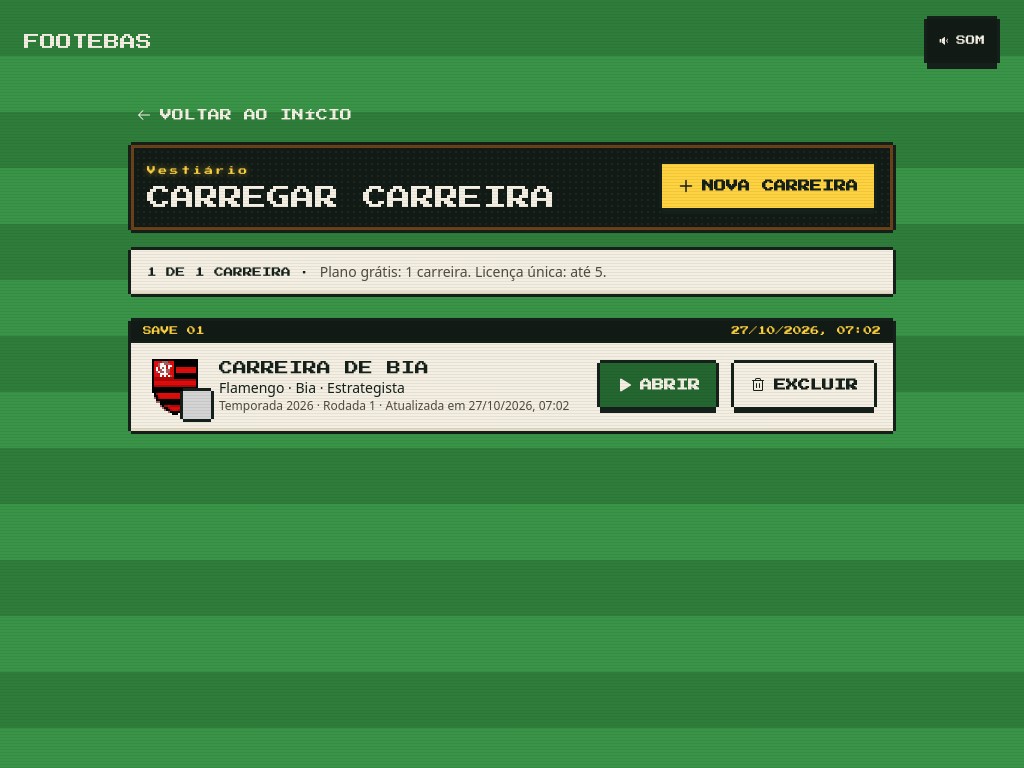
Test case: Carregar Carreira › só exclui depois da confirmação
Click the button with aria-label "excluir carreira de bia".
click(804, 385)  # box [734,363,874,407]
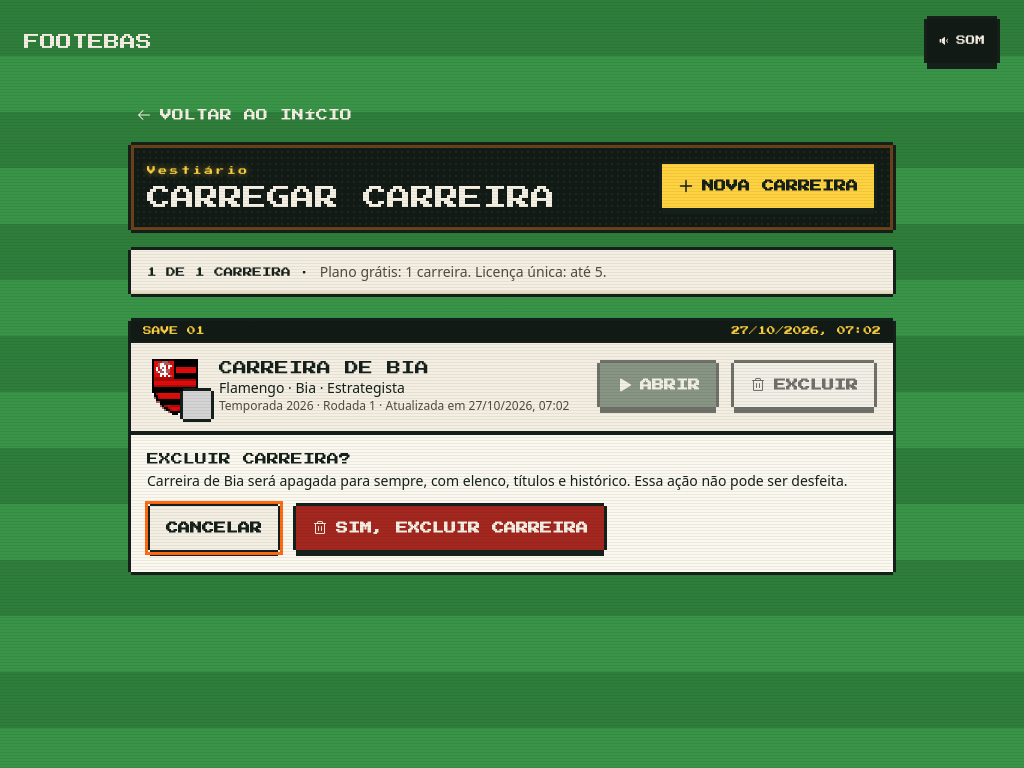
Expected: the dialog "Excluir carreira?" shows "não pode ser desfeita", [244,471,848,490]
Click the button "Cancelar".
click(214, 528)  # box [150,506,278,550]
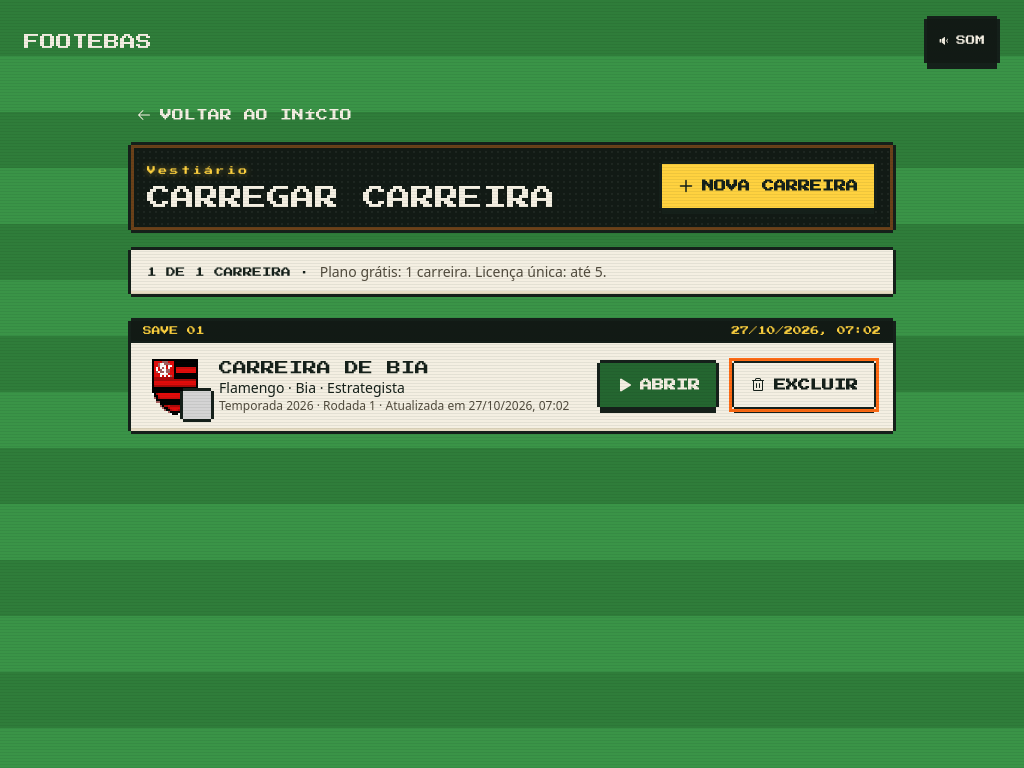
Expected: the dialog is gone
Click the button with aria-label "excluir carreira de bia".
click(804, 385)  # box [734,363,874,407]
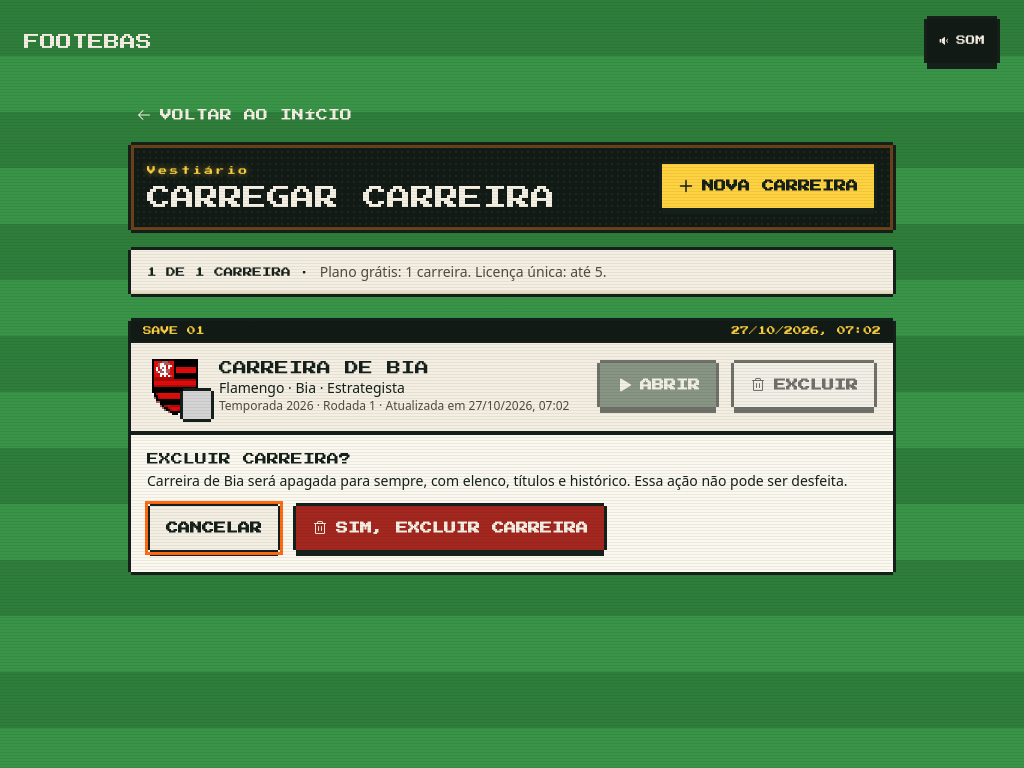
Press Escape in the dialog, box [131,431,893,572]
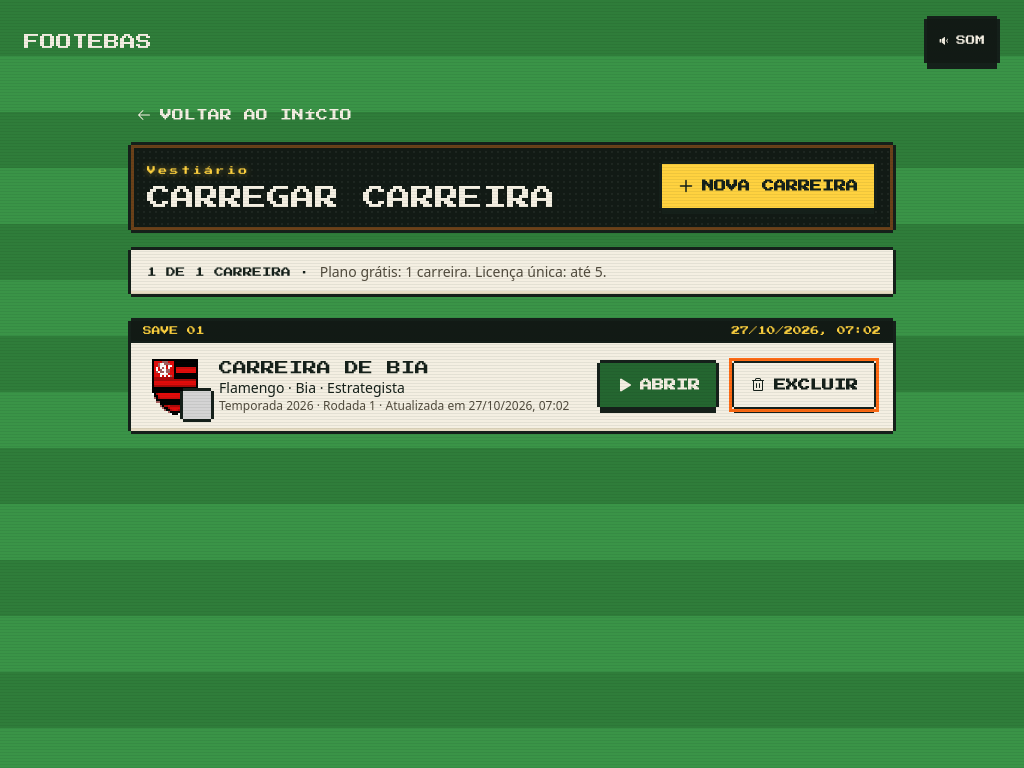
Expected: the dialog is gone
Click the button with aria-label "excluir carreira de bia".
click(804, 385)  # box [734,363,874,407]
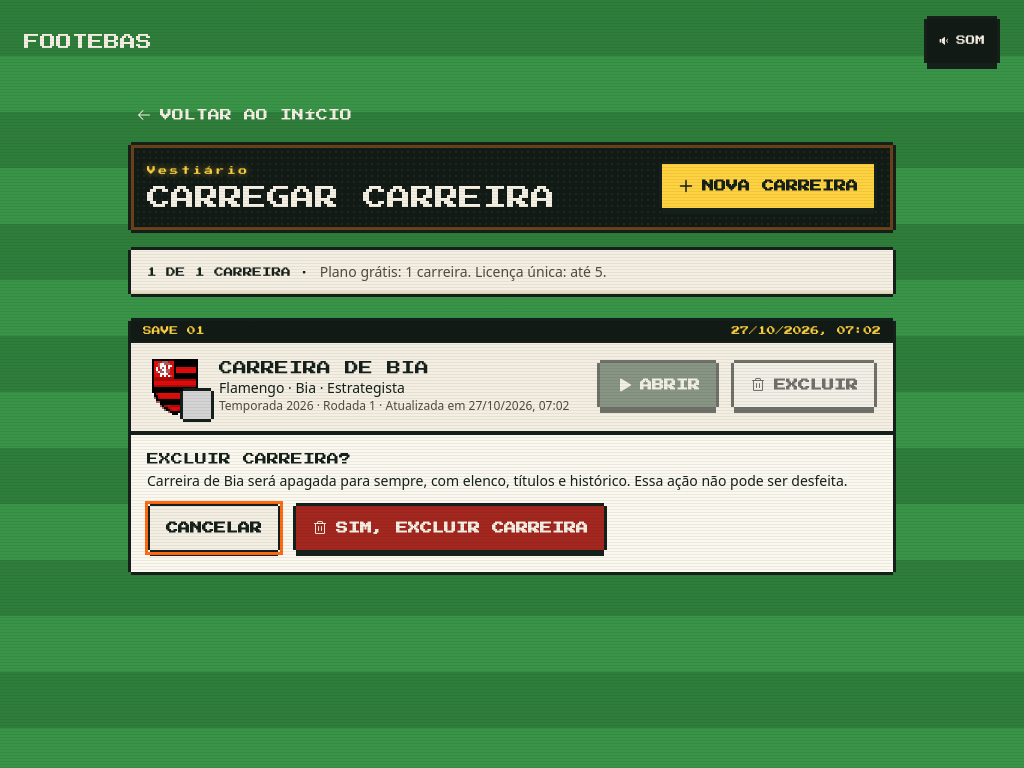
Click the button "Sim, excluir carreira".
click(450, 528)  # box [296,506,604,550]
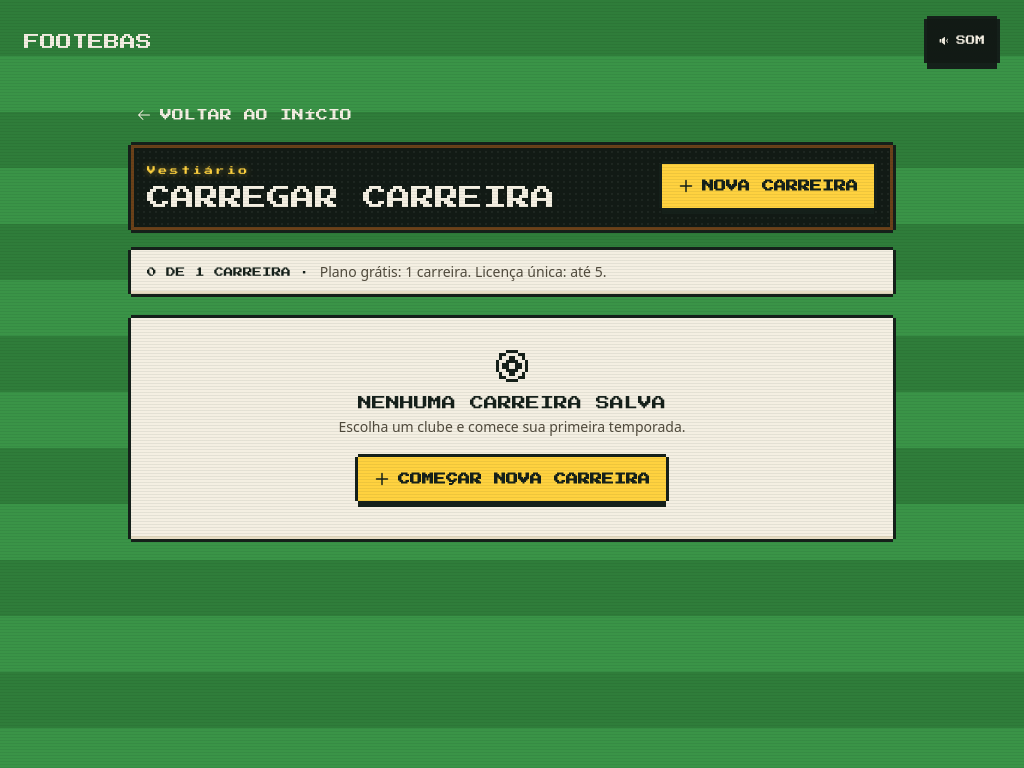
Expected: the text "Nenhuma carreira salva" is shown, [358,396,666,410]
